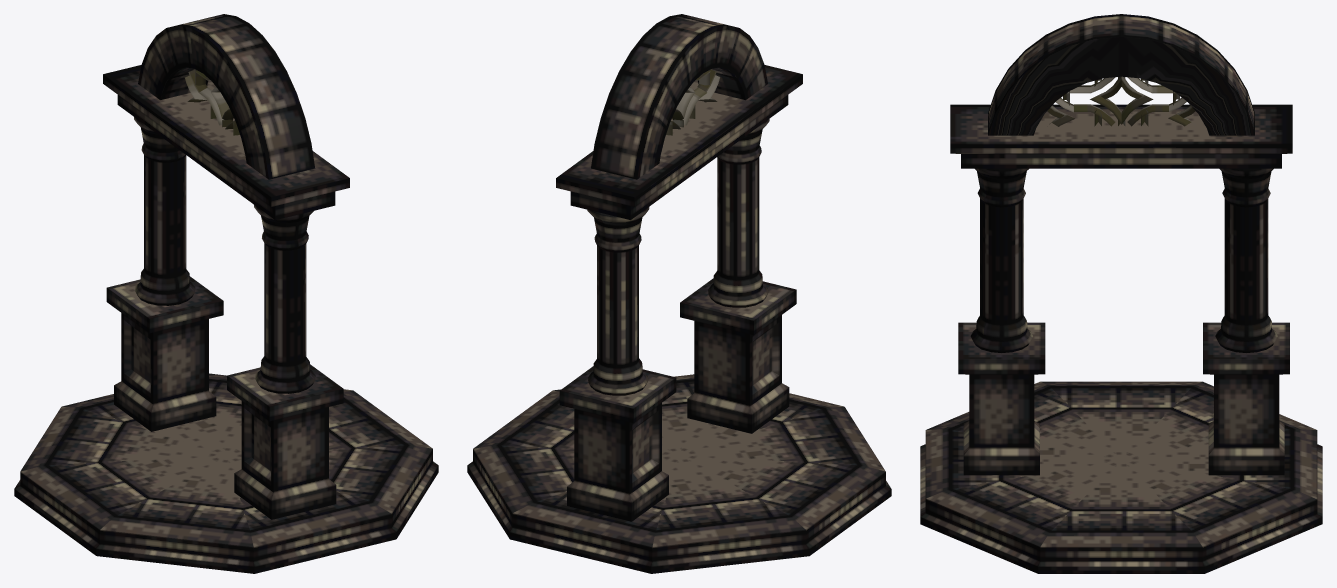
File: EnvBdgMD_Forest_MothersGarden_B_Bell_A.FBX
3 views of the same model, side by side, from view 1: azimuth 30°, elevation 25°; view 2: azimuth 150°, elevation 25°; view 3: azimuth 270°, elevation 25° (orthographic).
Parts seen in each view (by area): view 1: EnvBdgMD_Forest_MothersGarden_B_Bell_A; view 2: EnvBdgMD_Forest_MothersGarden_B_Bell_A; view 3: EnvBdgMD_Forest_MothersGarden_B_Bell_A.
Boxes of the visible parts, box(x1,y1,x2,y2) form: EnvBdgMD_Forest_MothersGarden_B_Bell_A: box(14, 14, 438, 573); EnvBdgMD_Forest_MothersGarden_B_Bell_A: box(467, 14, 891, 573); EnvBdgMD_Forest_MothersGarden_B_Bell_A: box(920, 14, 1322, 573).
Bounding box in the file's own units: 370 × 470 × 370.
Materials: 1 (1 with a texture image).
